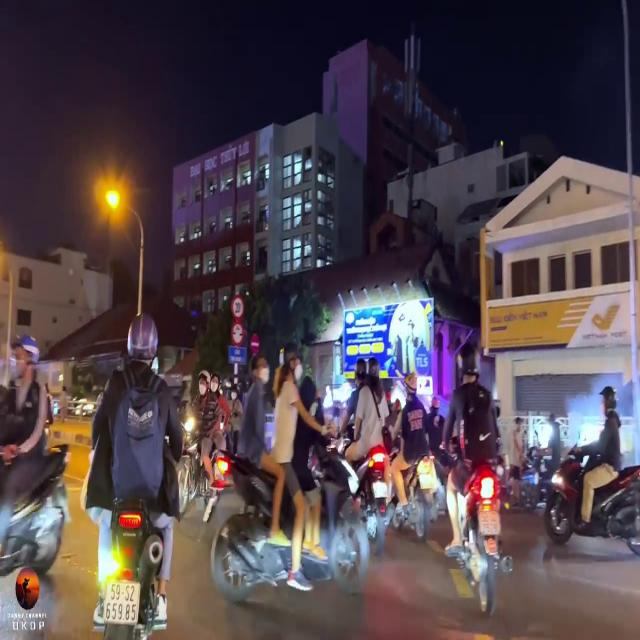bien_trang: (104, 576, 139, 622)
